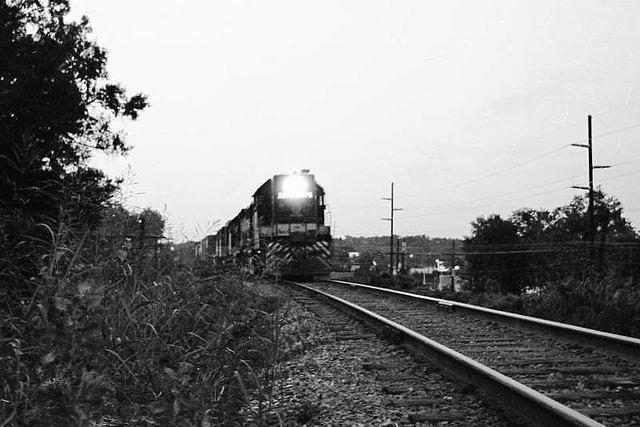Train: (194, 169, 332, 280)
